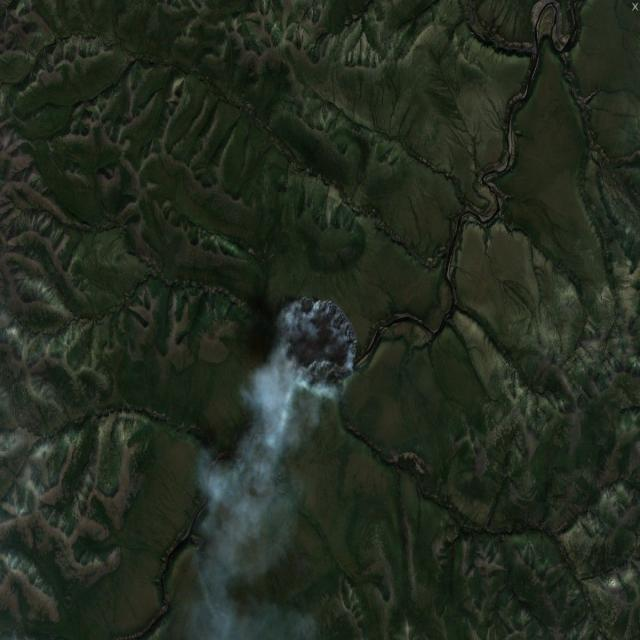fire: (282, 290, 362, 378)
